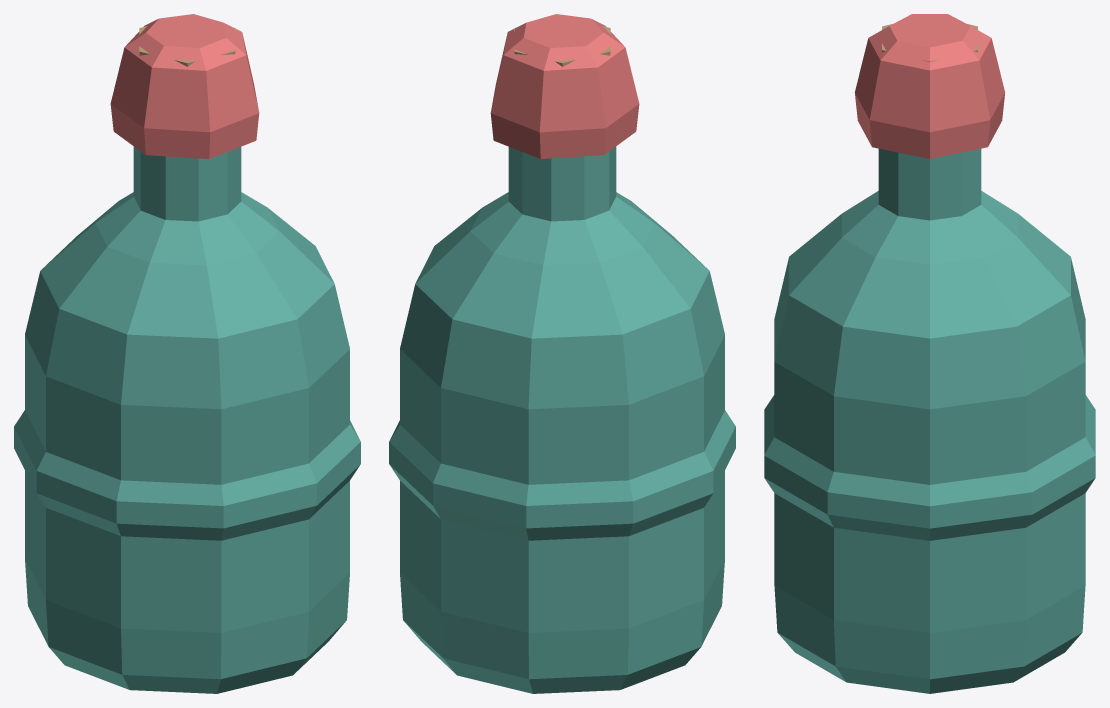
File: Item_TonicBottle_AMF_T4_LOD1.glb
3 renders of one model, left to right at view 1: azimuth 30°, elevation 25°; view 2: azimuth 150°, elevation 25°; view 3: azimuth 270°, elevation 25°, orthographic.
Parts seen in each view (by area): view 1: Item_TonicBottle_AMF_T4; view 2: Item_TonicBottle_AMF_T4; view 3: Item_TonicBottle_AMF_T4.
Part boxes in pixels (x1=…): Item_TonicBottle_AMF_T4: x1=14, y1=14, x2=360, y2=693; Item_TonicBottle_AMF_T4: x1=389, y1=14, x2=735, y2=693; Item_TonicBottle_AMF_T4: x1=764, y1=14, x2=1095, y2=693.
Size of the model in its own units: 0.113 by 0.216 by 0.1075.
